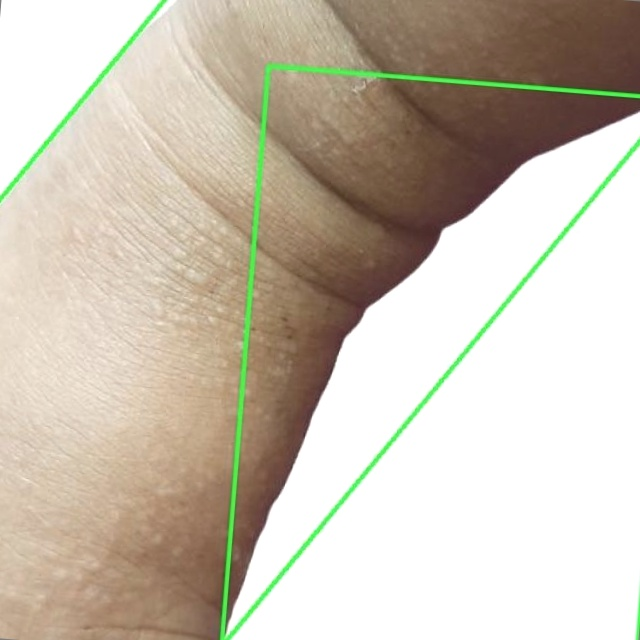Scabies: (0, 0, 639, 639), (222, 66, 639, 639)
